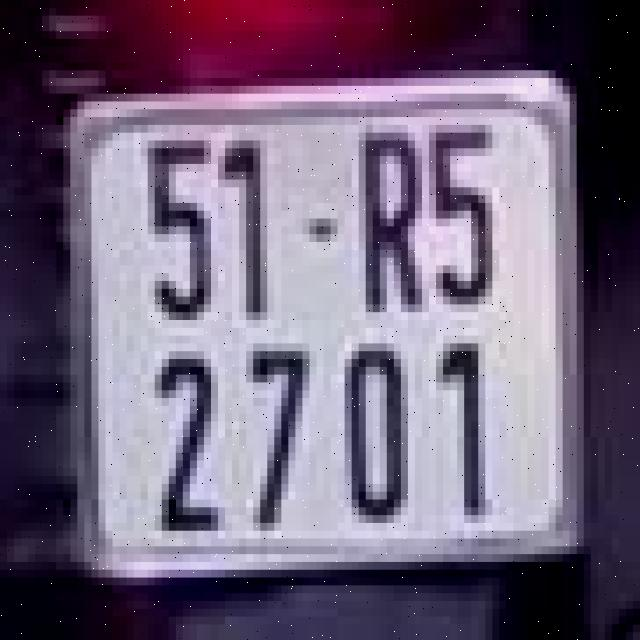0: (331, 336, 422, 530)
1: (425, 328, 503, 538), (218, 125, 274, 328)
2: (137, 336, 229, 546)
5: (425, 109, 510, 312), (141, 121, 218, 324)
7: (232, 328, 317, 538)
R: (355, 117, 433, 328)
